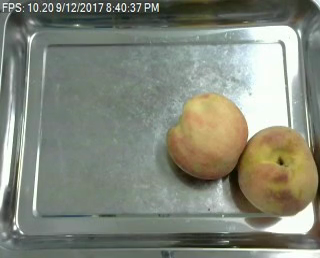Peach: (236, 125, 319, 214), (166, 92, 248, 180)
